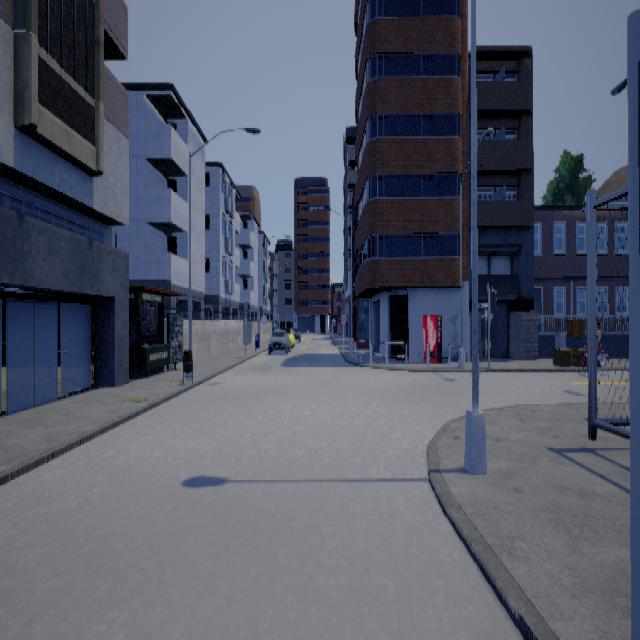traffic_light: (637, 59, 639, 253)
traffic_sign: (339, 310, 346, 325)
vehicle: (267, 326, 300, 354)
